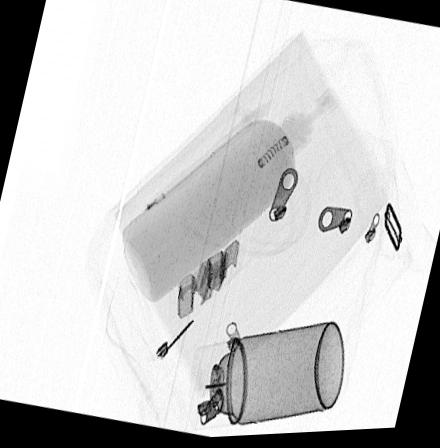Sprayer: (189, 325, 344, 432)
